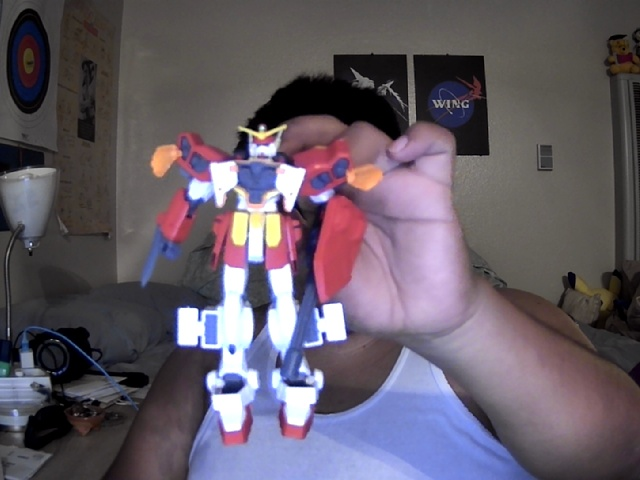Deatharms: (141, 124, 385, 448)
